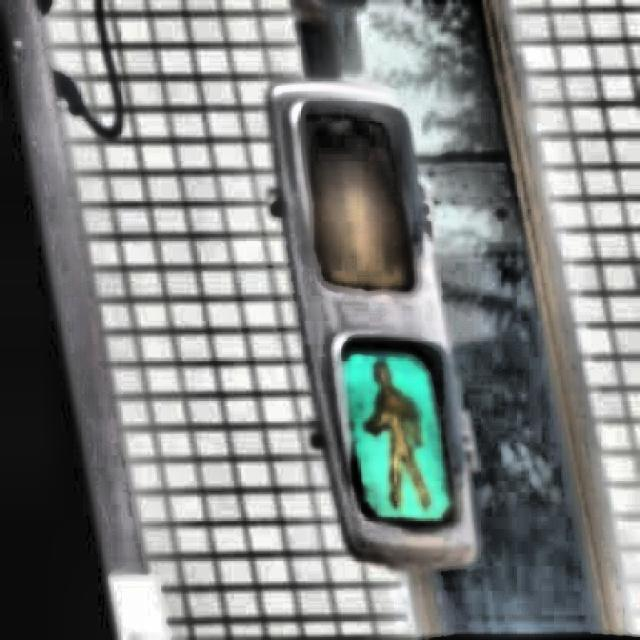semaforo pedestre: (172, 33, 596, 615)
